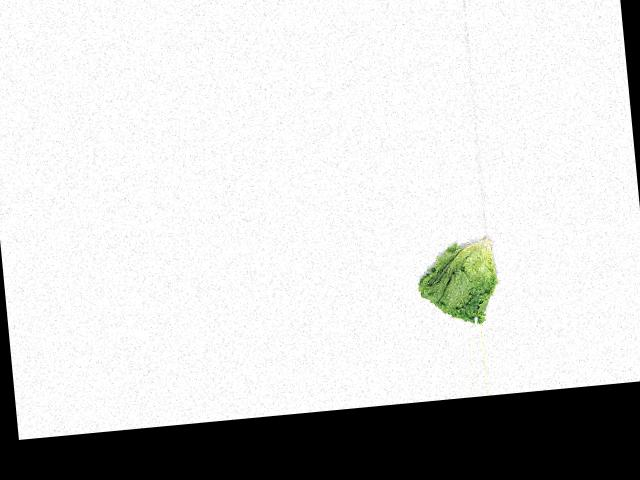lettuce: (406, 233, 508, 329)
